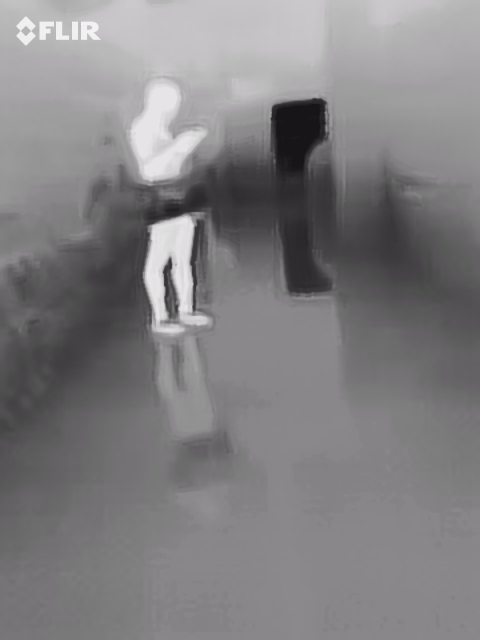head: (145, 83, 181, 125)
